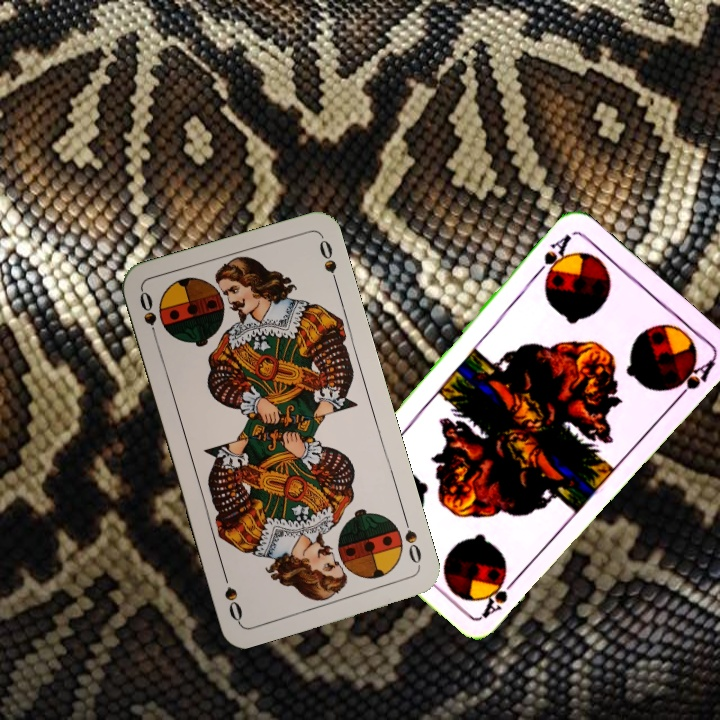SA: (530, 230, 574, 286), (478, 571, 522, 621)
SO: (135, 287, 161, 346), (399, 512, 424, 571)
